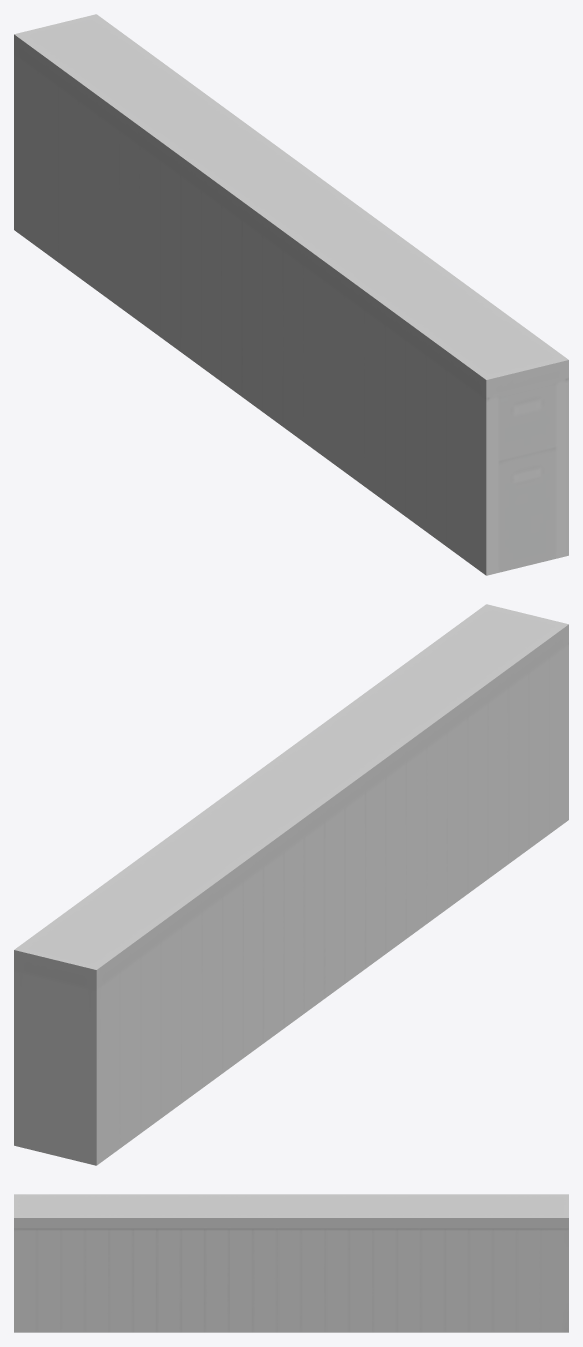
The model's file is Pfb_Shop_Counter__2.fbx.
3 renders of one model, top to bottom at view 1: azimuth 30°, elevation 25°; view 2: azimuth 150°, elevation 25°; view 3: azimuth 270°, elevation 25°, orthographic. The views are drawn at different scales.
Visible parts, largest first — view 1: Mat_Shop_Counter_01_JLAB; view 2: Mat_Shop_Counter_01_JLAB; view 3: Mat_Shop_Counter_01_JLAB.
Part boxes in pixels (bbox=[...]): Mat_Shop_Counter_01_JLAB: bbox=[14, 14, 568, 575]; Mat_Shop_Counter_01_JLAB: bbox=[14, 604, 568, 1165]; Mat_Shop_Counter_01_JLAB: bbox=[14, 1194, 568, 1332].
Size of the model in its own units: 0.357 by 0.8087 by 3.54.
Materials: 1 (1 with a texture image).
